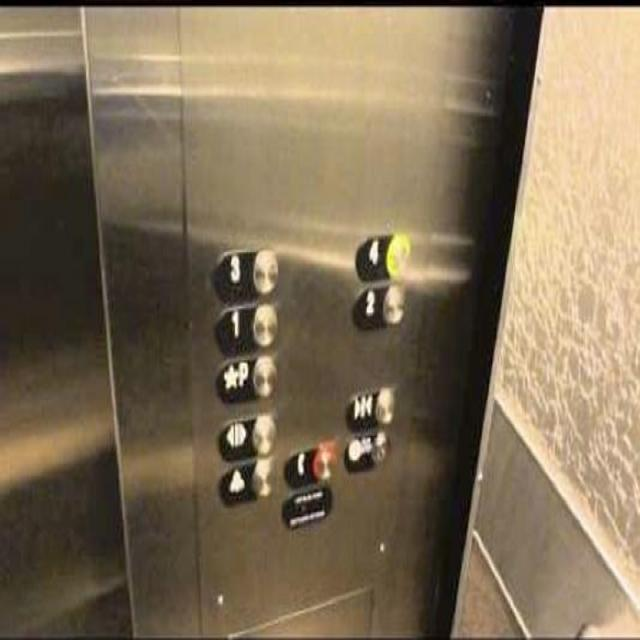1: (212, 302, 278, 358)
2: (351, 281, 406, 331)
3: (214, 245, 278, 304)
4: (354, 232, 412, 281)
alarm: (216, 456, 276, 505)
blur: (343, 431, 391, 473)
call: (282, 440, 338, 488)
close: (343, 385, 394, 432)
open: (216, 414, 277, 462)
sP: (213, 355, 277, 404)
text_blur: (279, 484, 334, 529)
